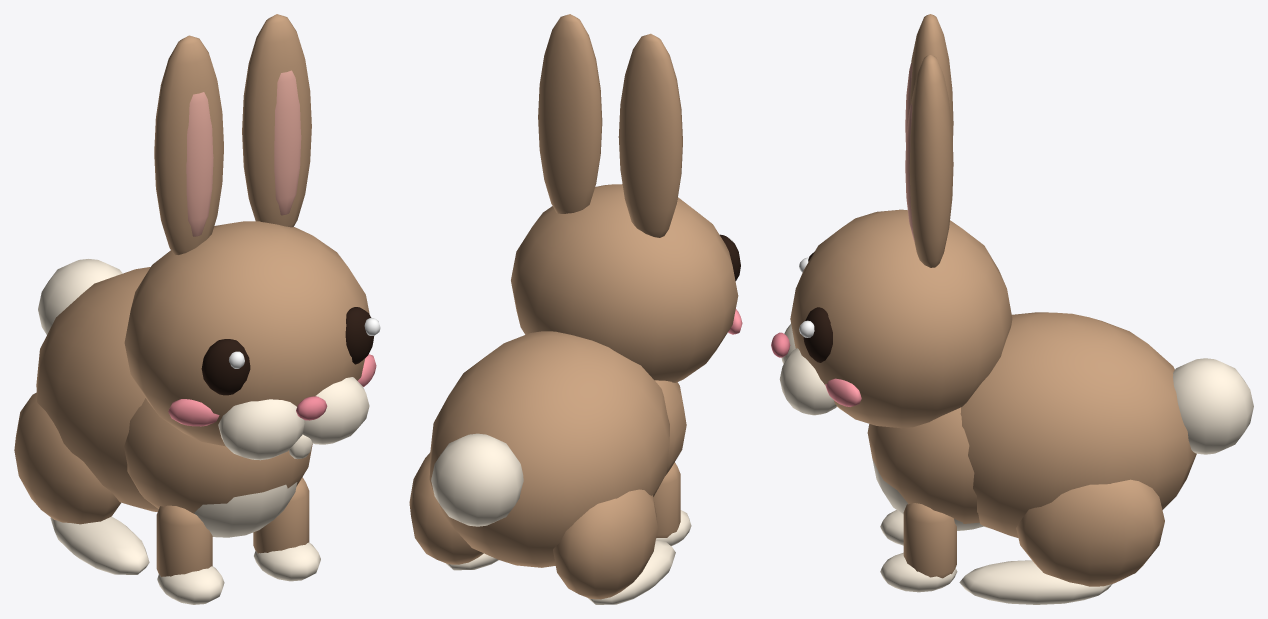
File: rabbit.glb
3 views of the same model, side by side, from view 1: azimuth 30°, elevation 25°; view 2: azimuth 150°, elevation 25°; view 3: azimuth 270°, elevation 25° (orthographic). The views are drawn at different scales.
Parts seen in each view (by area): view 1: Rabbit_Head, Rabbit_Body, Rabbit_Ear_L, Rabbit_Ear_R, Rabbit_Leg_BL, Rabbit_Leg_FL, Rabbit_Leg_FR, Rabbit_Tail; view 2: Rabbit_Body, Rabbit_Head, Rabbit_Ear_L, Rabbit_Ear_R, Rabbit_Leg_BL, Rabbit_Tail, Rabbit_Leg_BR, Rabbit_Leg_FL; view 3: Rabbit_Body, Rabbit_Head, Rabbit_Leg_BR, Rabbit_Ear_R, Rabbit_Tail, Rabbit_Leg_FR, Rabbit_Ear_L.
Part boxes in pixels (x1,y1,x2,y2): Rabbit_Head: (124,221,380,460); Rabbit_Body: (36,267,312,537); Rabbit_Ear_L: (154,35,223,255); Rabbit_Ear_R: (242,14,311,227); Rabbit_Leg_BL: (14,392,149,574); Rabbit_Leg_FL: (156,505,224,604); Rabbit_Leg_FR: (253,477,320,581); Rabbit_Tail: (38,259,122,334); Rabbit_Body: (429,331,686,567); Rabbit_Head: (511,184,742,382); Rabbit_Ear_L: (618,33,682,237); Rabbit_Ear_R: (538,14,602,213); Rabbit_Leg_BL: (553,489,675,604); Rabbit_Tail: (431,433,523,526); Rabbit_Leg_BR: (409,452,498,570); Rabbit_Leg_FL: (653,462,691,546); Rabbit_Body: (867,312,1196,537); Rabbit_Head: (771,209,1012,428); Rabbit_Leg_BR: (959,479,1164,604); Rabbit_Ear_R: (905,55,953,267); Rabbit_Tail: (1173,358,1253,454); Rabbit_Leg_FR: (880,503,957,592); Rabbit_Ear_L: (905,14,953,141).
Size of the model in its own units: 0.276 by 0.607 by 0.5.
